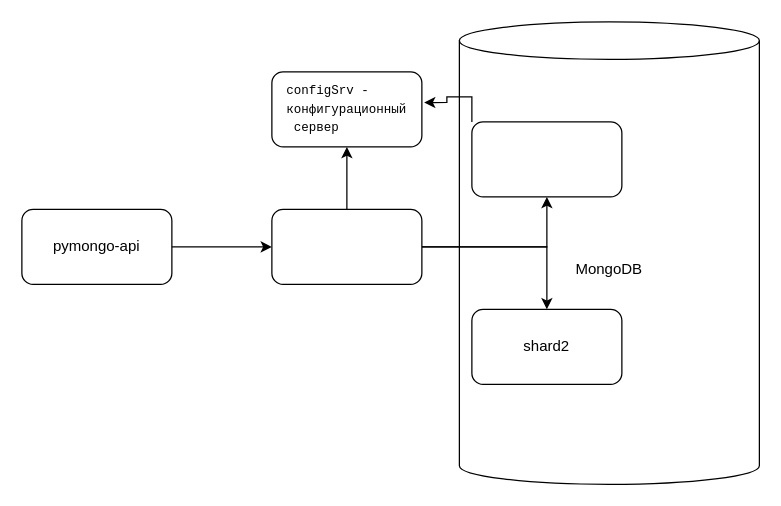
Some shapes in this 781 by 506 pixel diagram are drawn without their labels. The centre of each missing label's shape, as x and y in pixels:
mongos_router - роутер: the point at 346,246
shard1: the point at 546,159
